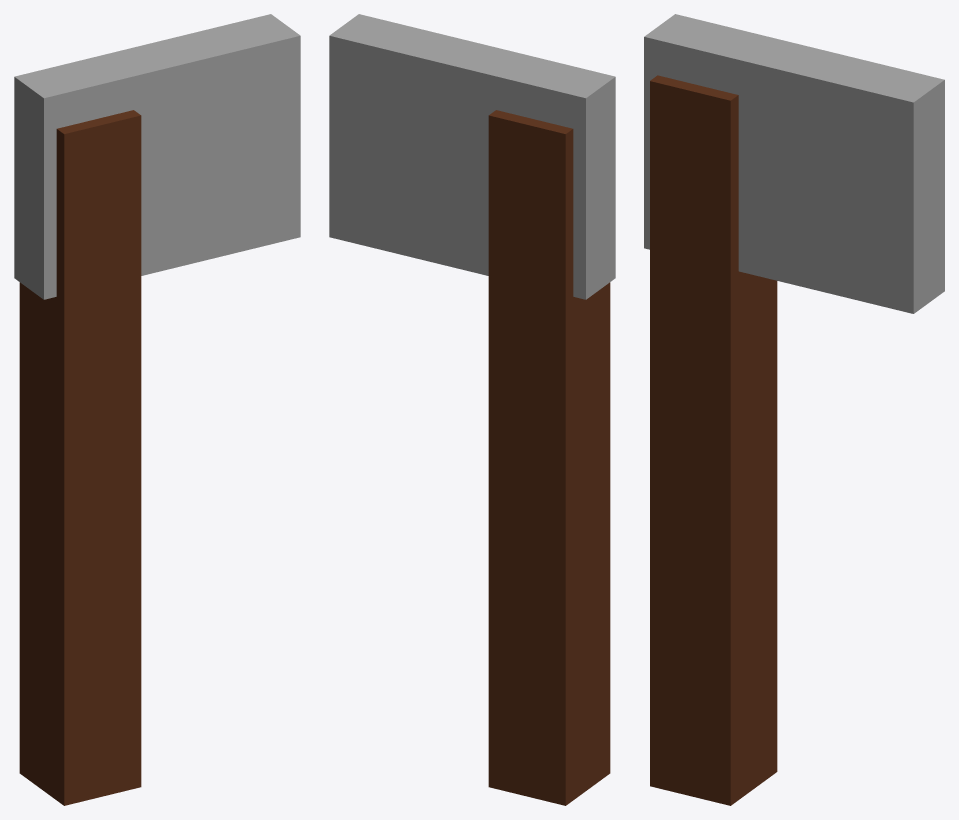
The model's file is gun-axe.glb.
3 views of the same model, side by side, from view 1: azimuth 30°, elevation 25°; view 2: azimuth 150°, elevation 25°; view 3: azimuth 330°, elevation 25° (orthographic). The views are drawn at different scales.
Parts seen in each view (by area): view 1: axe; view 2: axe; view 3: axe.
Boxes of the visible parts, x1,y1,x2,y2 form: axe: (14,14,300,805); axe: (329,14,615,805); axe: (644,14,944,805).
Bounding box in the file's own units: 0.2 × 0.525 × 0.06.
